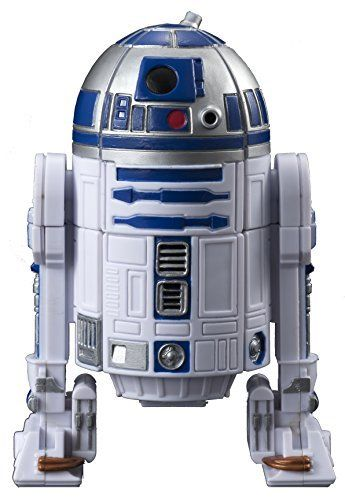r2d2: (12, 11, 336, 488)
